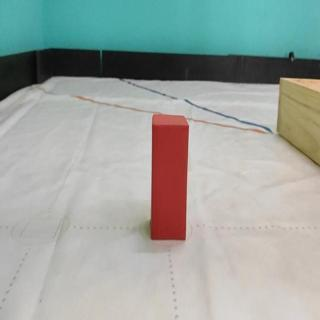redbox: (151, 115, 188, 240)
